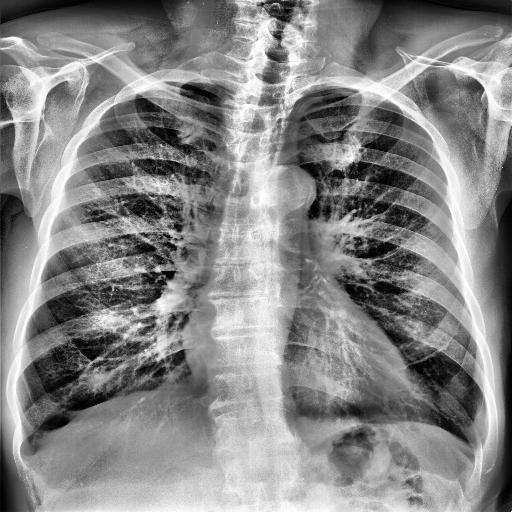0- Aortic enlargement: (254, 163, 318, 213), (261, 166, 315, 211)
10- Pleural effusion: (454, 428, 498, 472), (10, 434, 53, 473), (454, 434, 490, 470), (13, 434, 47, 468)
11- Pleural thickening: (454, 428, 498, 472), (10, 434, 53, 473), (454, 434, 490, 470), (17, 430, 55, 462), (13, 434, 47, 468), (454, 433, 490, 462)
